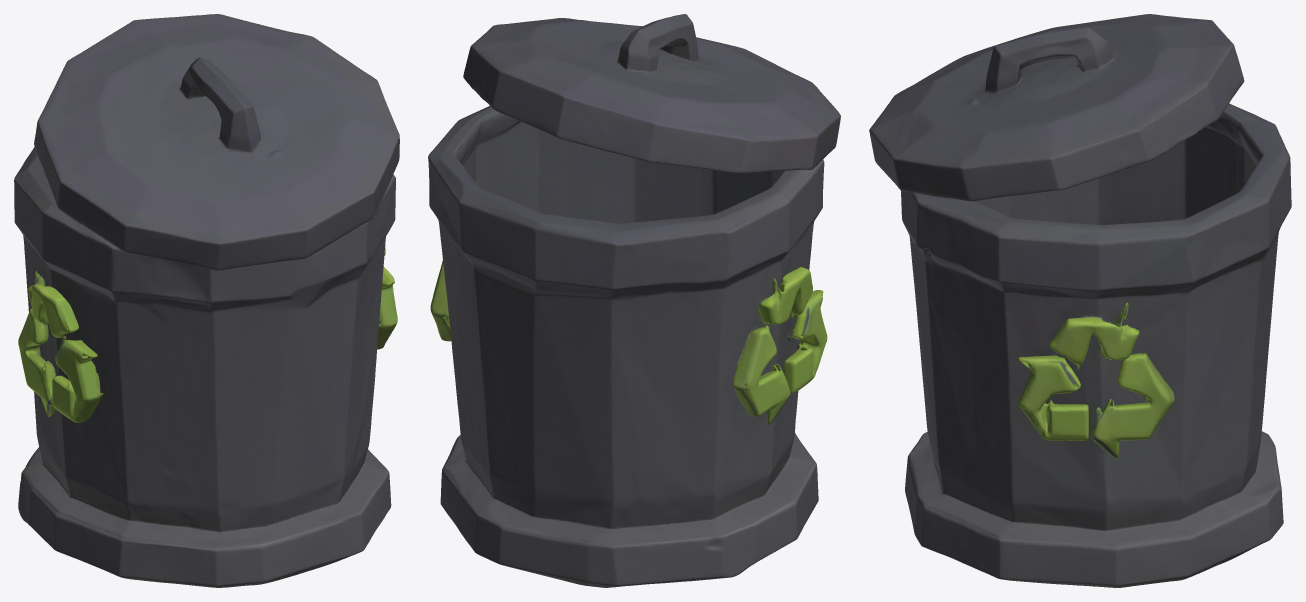
File: basurero 3d model.glb
3 renders of one model, left to right at view 1: azimuth 30°, elevation 25°; view 2: azimuth 150°, elevation 25°; view 3: azimuth 270°, elevation 25°, orthographic. The views are drawn at different scales.
Visible parts, largest first — view 1: tripo_node_de4170a7-a29f-462b-a9a4-a57afc5566a7; view 2: tripo_node_de4170a7-a29f-462b-a9a4-a57afc5566a7; view 3: tripo_node_de4170a7-a29f-462b-a9a4-a57afc5566a7.
Part boxes in pixels (x1,y1,x2,y2): tripo_node_de4170a7-a29f-462b-a9a4-a57afc5566a7: [14, 14, 399, 587]; tripo_node_de4170a7-a29f-462b-a9a4-a57afc5566a7: [428, 14, 840, 587]; tripo_node_de4170a7-a29f-462b-a9a4-a57afc5566a7: [869, 14, 1291, 587].
Bounding box in the file's own units: 0.755 × 1 × 0.7935.
Materials: 1 (1 with a texture image).
